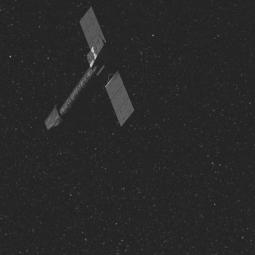xmm_newton: (43, 3, 153, 128)
